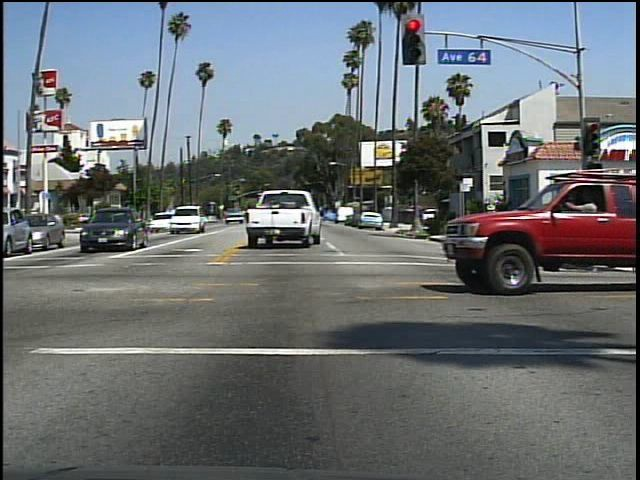person: (574, 182, 613, 292), (479, 198, 505, 236)
